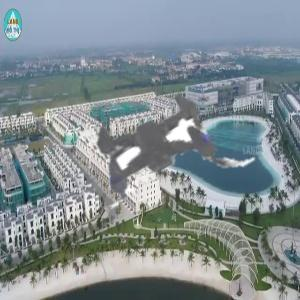drone: (6, 4, 292, 290)
